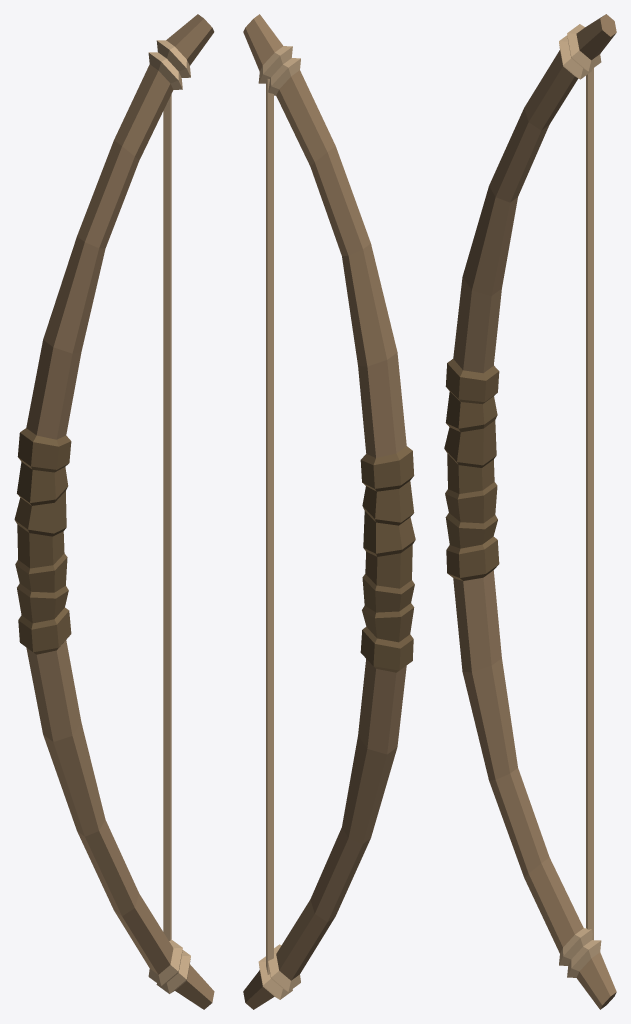
The model's file is SM_pwe_egypt_bow_05.fbx.
The picture shows the model from 3 angles, left to right: view 1: azimuth 30°, elevation 25°; view 2: azimuth 150°, elevation 25°; view 3: azimuth 330°, elevation 25°; orthographic projection.
Visible parts, largest first — view 1: SM_pwe_egypt_bow_05; view 2: SM_pwe_egypt_bow_05; view 3: SM_pwe_egypt_bow_05.
Boxes of the visible parts, bbox=[...] form: SM_pwe_egypt_bow_05: bbox=[14, 14, 214, 1009]; SM_pwe_egypt_bow_05: bbox=[243, 14, 415, 1009]; SM_pwe_egypt_bow_05: bbox=[444, 14, 616, 1009].
Size of the model in its own units: 13.51 by 72.51 by 4.78.
